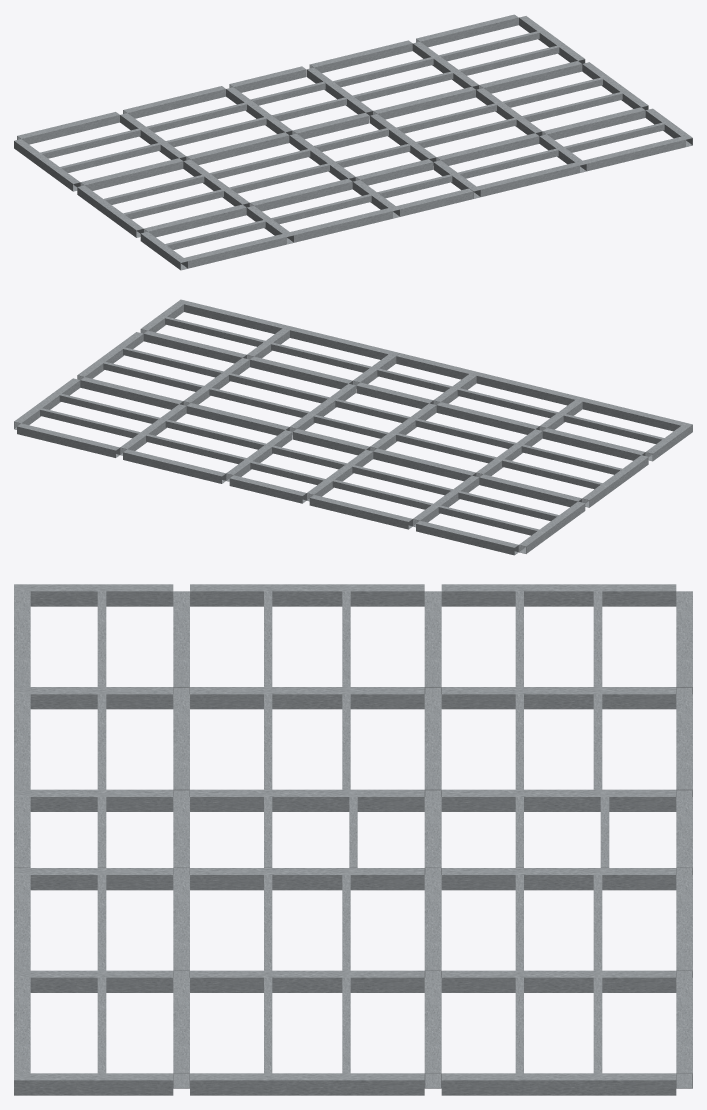
Rendered from 03 ESTRUCTURA VIGAS.glb.
3 views of the same model, one above another, from view 1: azimuth 30°, elevation 25°; view 2: azimuth 150°, elevation 25°; view 3: azimuth 270°, elevation 25° (orthographic). The views are drawn at different scales.
Parts seen in each view (by area): view 1: Vigas_Principales.#1 (×16), Vigas_Secundarias (×20), Vigas_Principales. (×12), Vigas_Principales.#2 (×6), Vigas_Principales.#12, Vigas_Principales.#13, Vigas_Principales.#11, Vigas_Principales.#14, Vigas_Secundarias#11, Vigas_Secundarias#10, Vigas_Secundarias#13, Vigas_Secundarias#12 (+1 smaller); view 2: Vigas_Principales.#1 (×16), Vigas_Secundarias (×20), Vigas_Principales. (×12), Vigas_Principales.#2 (×6), Vigas_Principales.#13, Vigas_Principales.#14, Vigas_Principales.#11, Vigas_Principales.#12, Vigas_Secundarias#12, Vigas_Secundarias#11, Vigas_Secundarias#13, Vigas_Secundarias#10 (+1 smaller); view 3: Vigas_Principales. (×12), Vigas_Principales.#1 (×16), Vigas_Principales.#2 (×6), Vigas_Secundarias (×20), Vigas_Principales.#11, Vigas_Principales.#13, Vigas_Principales.#14, Vigas_Principales.#12.
Boxes of the visible parts, x1,y1,x2,y2 form: Vigas_Principales.#1 (×16): [17, 14, 685, 268]; Vigas_Secundarias (×20): [40, 31, 664, 249]; Vigas_Principales. (×12): [14, 16, 648, 237]; Vigas_Principales.#2 (×6): [140, 108, 692, 270]; Vigas_Principales.#12: [396, 188, 473, 216]; Vigas_Principales.#13: [229, 66, 306, 92]; Vigas_Principales.#11: [292, 112, 369, 139]; Vigas_Principales.#14: [356, 159, 432, 185]; Vigas_Secundarias#11: [377, 174, 452, 198]; Vigas_Secundarias#10: [335, 144, 410, 167]; Vigas_Secundarias#13: [250, 81, 325, 105]; Vigas_Secundarias#12: [314, 128, 388, 151]; Vigas_Principales.#1 (×16): [17, 301, 684, 555]; Vigas_Secundarias (×20): [40, 317, 664, 535]; Vigas_Principales. (×12): [14, 332, 648, 553]; Vigas_Principales.#2 (×6): [140, 299, 692, 461]; Vigas_Principales.#13: [229, 475, 306, 503]; Vigas_Principales.#14: [356, 382, 433, 408]; Vigas_Principales.#11: [293, 429, 369, 455]; Vigas_Principales.#12: [396, 353, 472, 379]; Vigas_Secundarias#12: [313, 415, 388, 438]; Vigas_Secundarias#11: [377, 368, 451, 392]; Vigas_Secundarias#13: [250, 461, 325, 484]; Vigas_Secundarias#10: [335, 399, 409, 422]; Vigas_Principales. (×12): [190, 584, 676, 1095]; Vigas_Principales.#1 (×16): [14, 591, 692, 1088]; Vigas_Principales.#2 (×6): [14, 584, 173, 1095]; Vigas_Secundarias (×20): [97, 591, 602, 1073]; Vigas_Principales.#11: [424, 797, 441, 874]; Vigas_Principales.#13: [676, 797, 692, 874]; Vigas_Principales.#14: [173, 797, 189, 874]; Vigas_Principales.#12: [14, 797, 30, 867].
Size of the model in its own units: 7 by 0.1 by 4.05.
106 materials, 106 textured.
